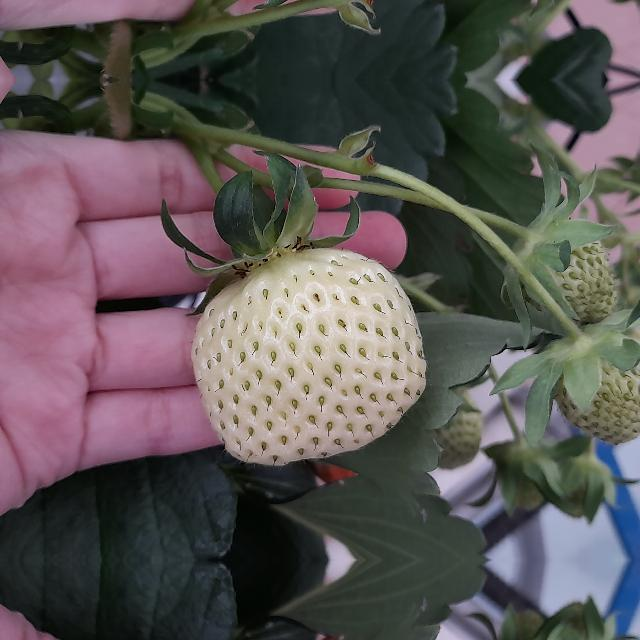Health_25: (190, 247, 426, 465), (549, 340, 639, 448)
